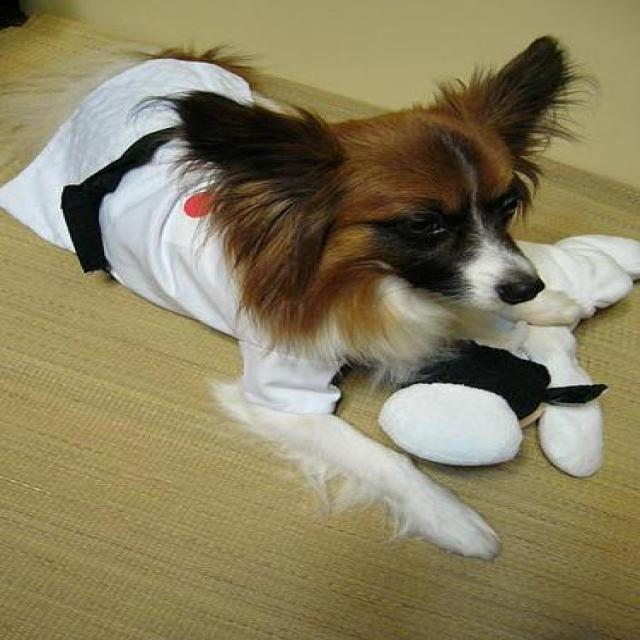papillon: (0, 31, 609, 564)
